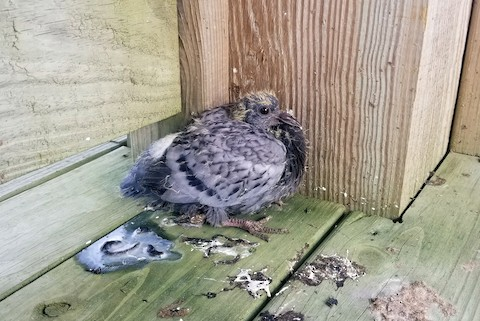pigeon: (118, 87, 310, 243)
